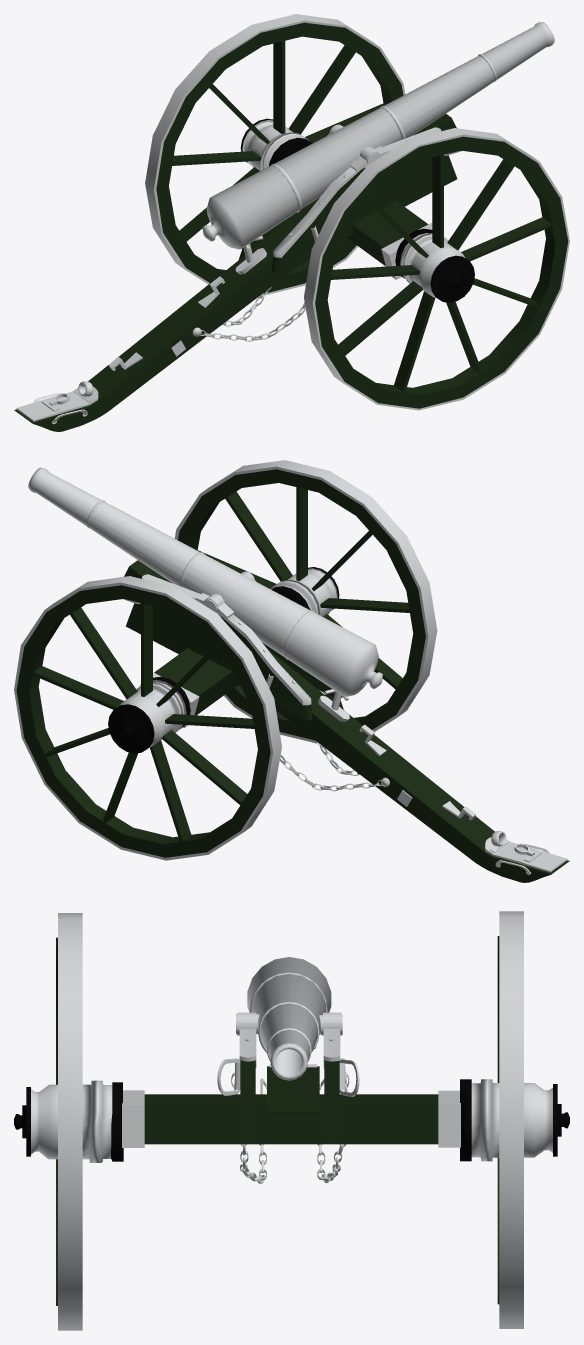
The model's file is artillery_cannon.glb.
3 views of the same model, one above another, from view 1: azimuth 30°, elevation 25°; view 2: azimuth 150°, elevation 25°; view 3: azimuth 270°, elevation 25° (orthographic). The views are drawn at different scales.
Visible parts, largest first — view 1: Piece, Wheel_Right_, Main_Gun_Carriage, Spindles, Wheel_Left_, Wheel_Rim, Spindles_1, Wheel_Rim_1, Gun_Clamp_Right_, Hub, Carriage_Section, Hub_1 (+2 smaller); view 2: Piece, Wheel_Left_, Main_Gun_Carriage, Spindles_1, Wheel_Right_, Wheel_Rim_1, Wheel_Rim, Spindles, Hub_1, Clamp_Left_, Carriage_Section, Hub (+2 smaller); view 3: Carriage_Section, Wheel_Rim_1, Wheel_Rim, Piece, Hub_1, Hub, Main_Gun_Carriage, Clamp_Left_, Gun_Clamp_Right_, Wheel_Left_, Gun_Clamp_metal_strap_1, Gun_Clamp_metal_strap (+1 smaller).
Boxes of the visible parts, x1,y1,x2,y2 form: Piece: (202,22,554,249); Wheel_Right_: (315,136,568,408); Main_Gun_Carriage: (14,114,456,431); Spindles: (329,151,555,394); Wheel_Left_: (156,22,403,293); Wheel_Rim: (304,128,569,410); Spindles_1: (170,37,385,259); Wheel_Rim_1: (145,14,405,296); Gun_Clamp_Right_: (272,155,457,272); Hub: (395,228,474,302); Carriage_Section: (346,201,432,279); Hub_1: (240,118,312,170); Piece: (28,467,382,696); Wheel_Left_: (16,585,270,857); Main_Gun_Carriage: (124,560,569,882); Spindles_1: (32,603,254,841); Wheel_Right_: (178,469,425,740); Wheel_Rim_1: (14,576,281,860); Wheel_Rim: (174,460,437,743); Spindles: (197,487,409,709); Hub_1: (108,676,190,753); Clamp_Left_: (125,603,312,720); Carriage_Section: (140,648,237,727); Hub: (270,567,339,616); Carriage_Section: (122,1090,460,1147); Wheel_Rim_1: (499,911,523,1328); Wheel_Rim: (58,913,82,1330); Piece: (247,957,331,1080); Hub_1: (460,1079,569,1161); Hub: (14,1080,123,1162); Main_Gun_Carriage: (267,1066,319,1114); Clamp_Left_: (324,1060,339,1140); Gun_Clamp_Right_: (240,1060,255,1140); Wheel_Left_: (497,936,499,1304); Gun_Clamp_metal_strap_1: (323,1029,340,1068); Gun_Clamp_metal_strap: (239,1029,256,1067).
Bounding box in the file's own units: 1.14 × 0.5883 × 0.7406.
